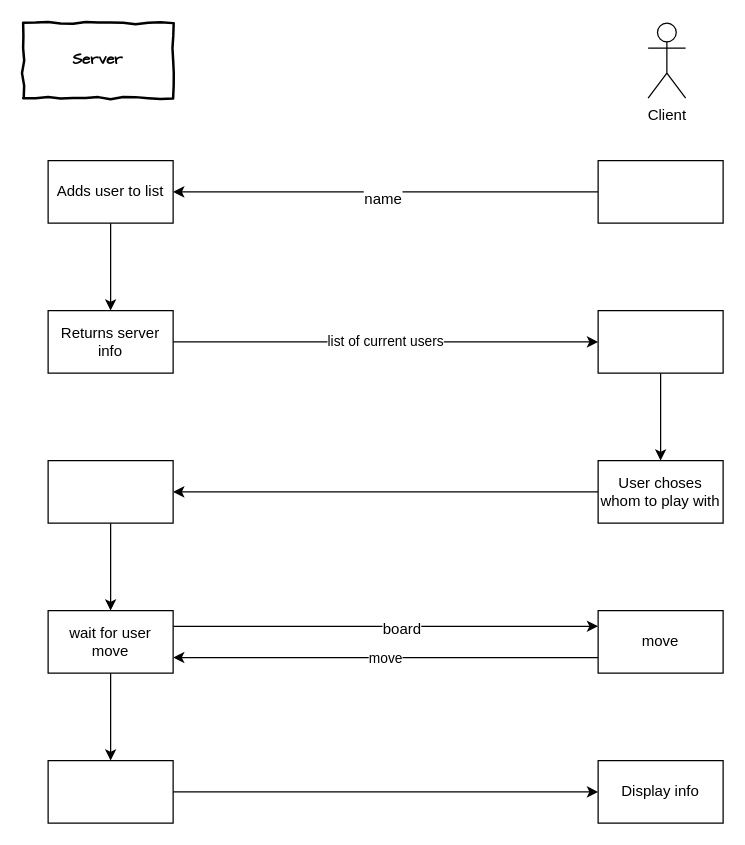
The diagram is 745 pixels wide and 845 high, and some of its shapes have lost their labels. The centre of each missing label's shape, as x and y in pixels:
"Display info to user" goes at (x=660, y=341).
"Game ends" goes at (x=110, y=791).
"Game starts" goes at (x=110, y=491).
"Login" goes at (x=660, y=191).
